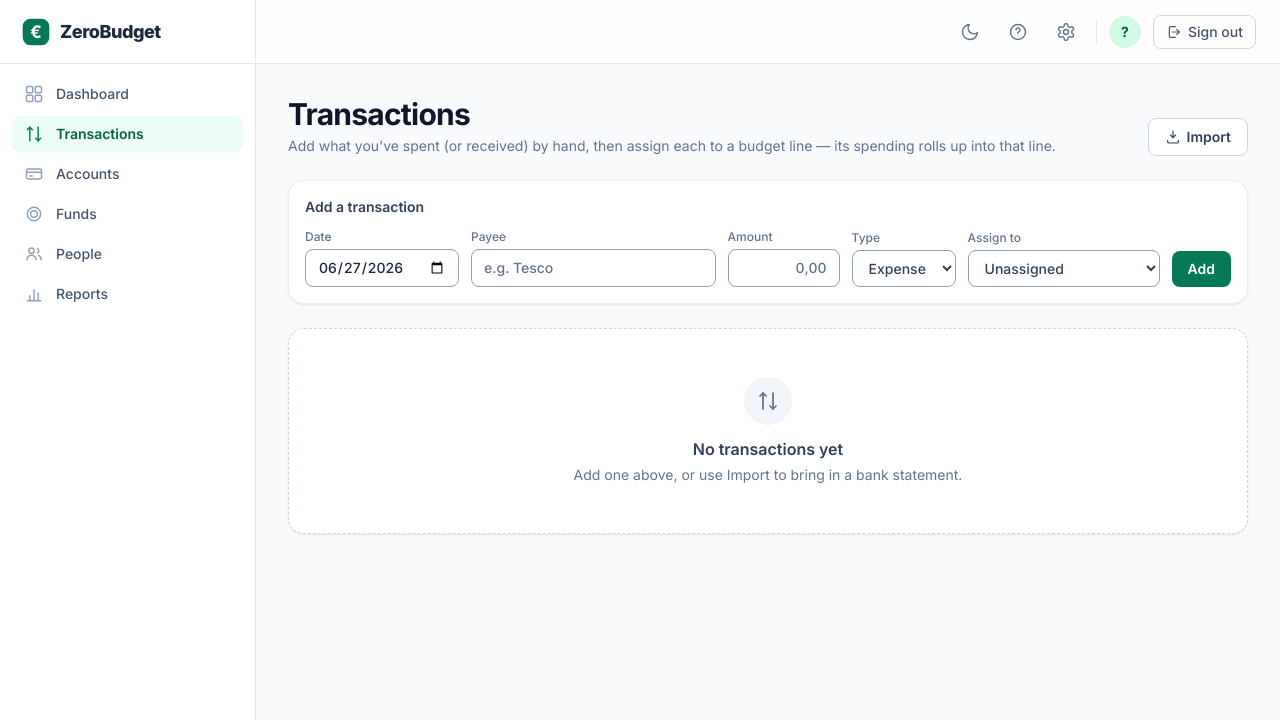
TransactionsPage manual sheet › adds a manual transaction assigned to a line
In the field named "Transaction payee": (593, 268) top-left (471, 249), bottom-right (716, 287), type "Tesco"
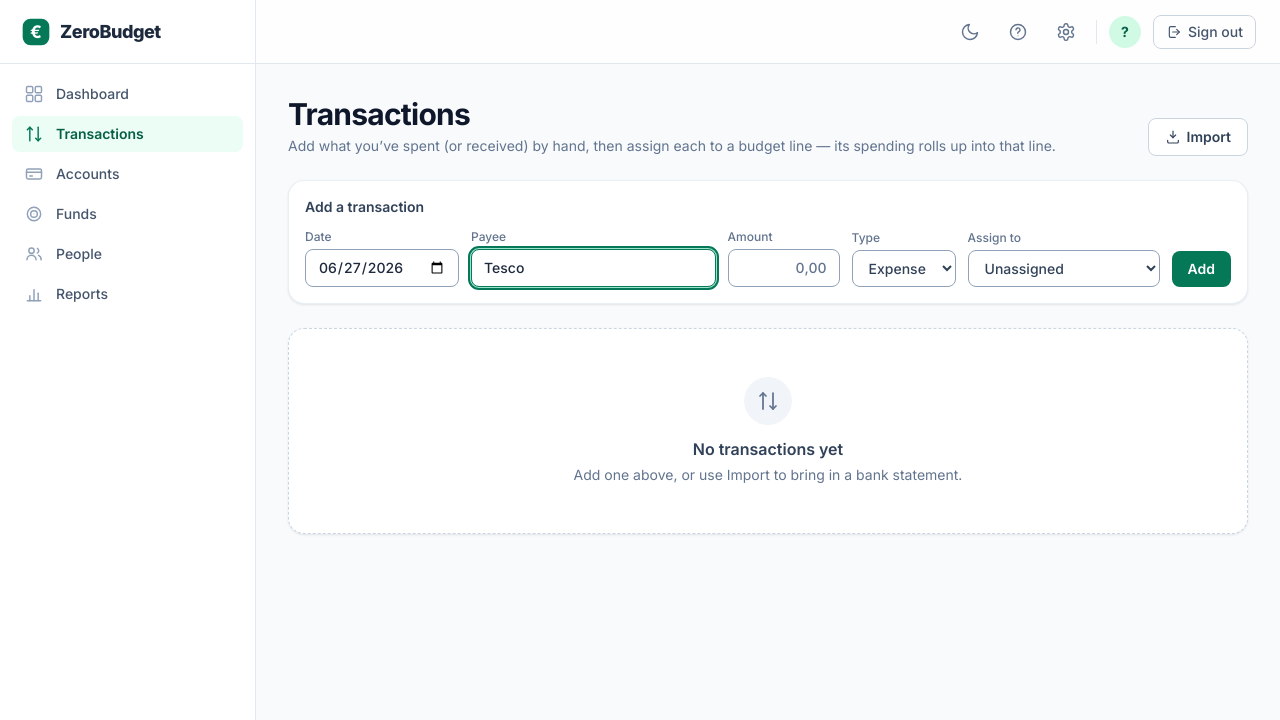
In the field named "Transaction amount": (784, 268) top-left (728, 249), bottom-right (840, 287), type "12,50"
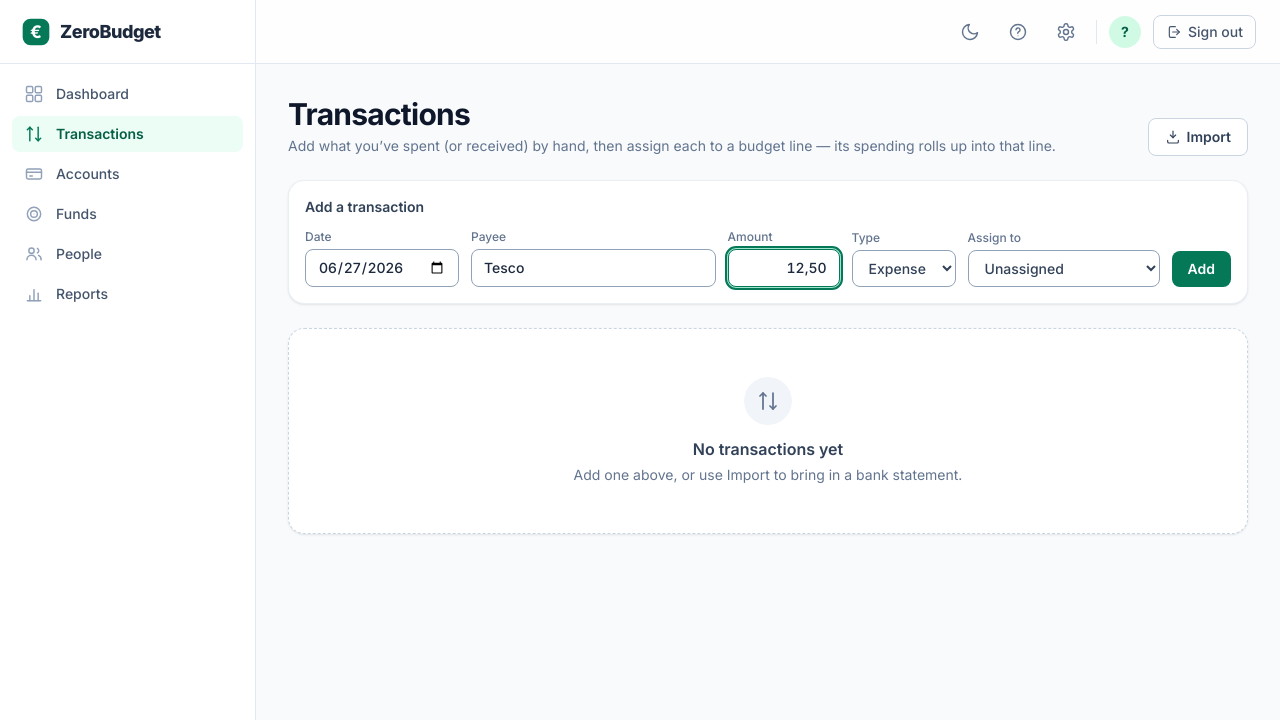
Select "Rent" in the dropdown named "Assign transaction to": (1064, 268) top-left (968, 250), bottom-right (1160, 287)
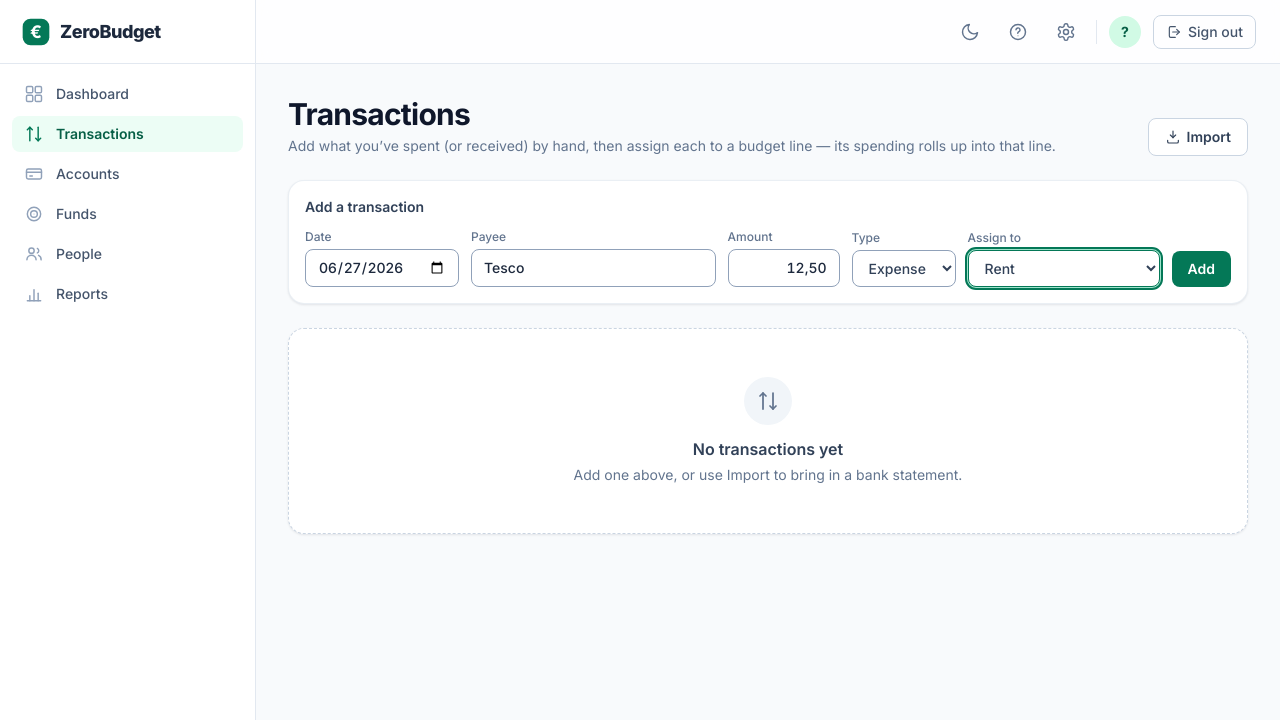
Click the button with aria-label "Add transaction": (1201, 269) top-left (1172, 251), bottom-right (1231, 287)
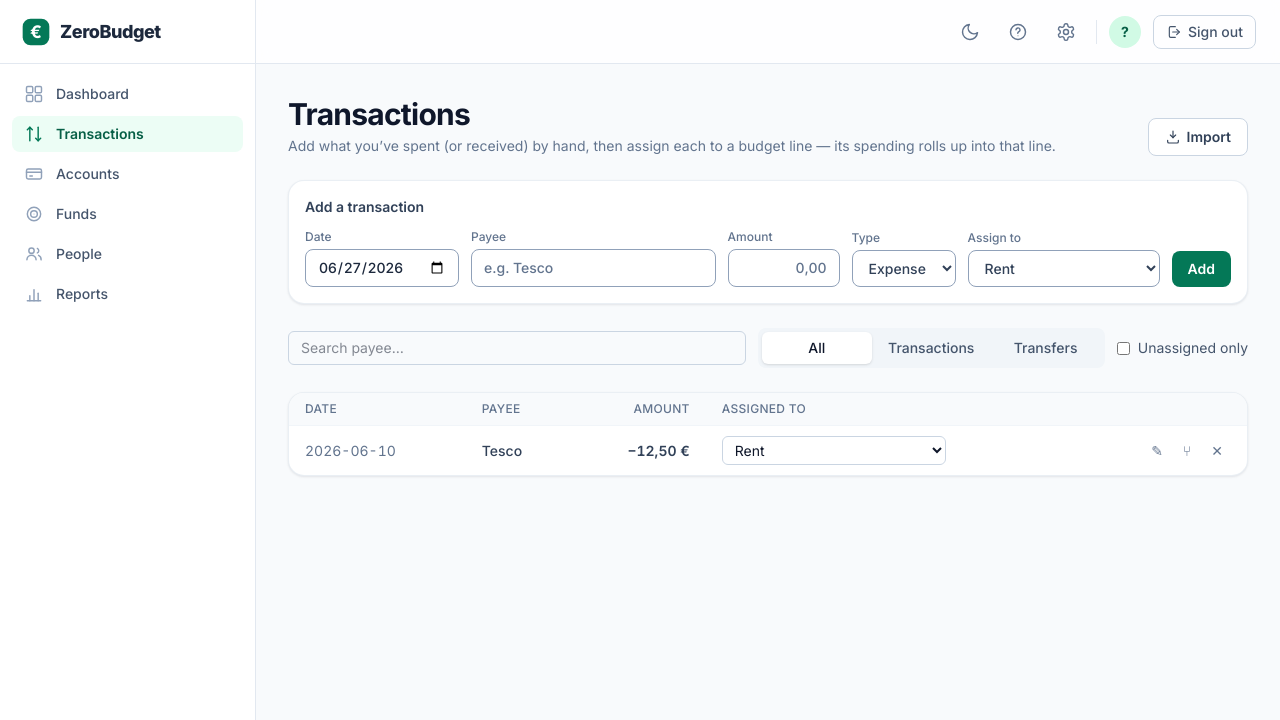
Now the text "Tesco" is shown, box top-left (466, 426), bottom-right (570, 475)
